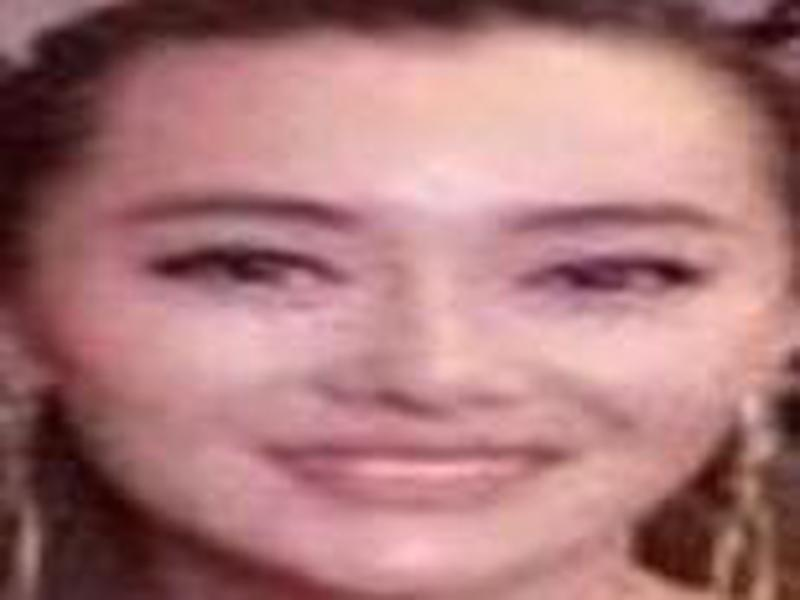without_mask: (31, 78, 772, 587)
